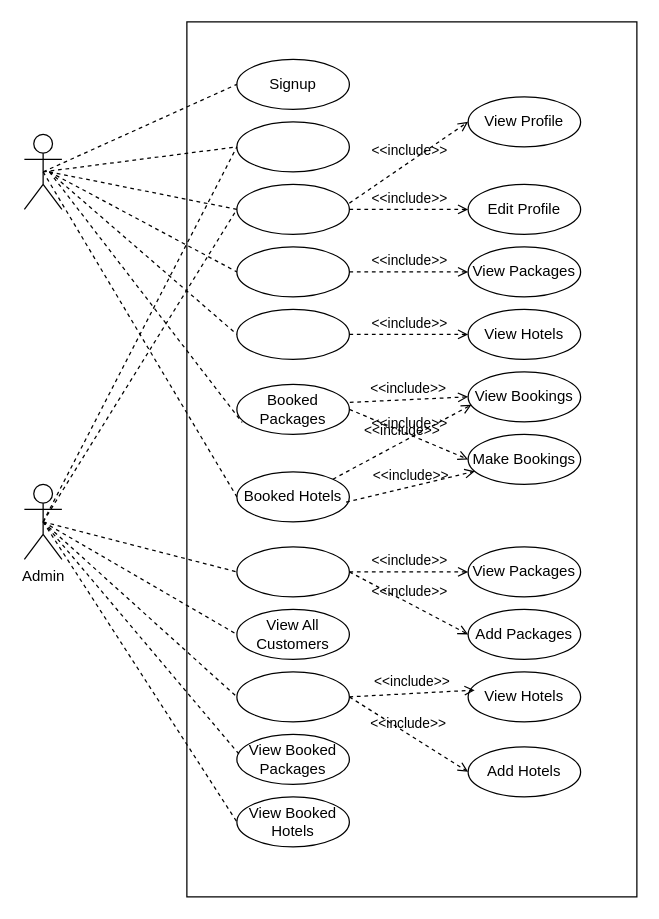
Image size: 659x919. Some labels were removed from this diagram. The shapes that lost their labels are listed below. From the top down, each one's centre as x and y in pixels, then its label:
At point 292,146: "Login / Logout".
At point 42,171: "User".
At point 292,208: "Your Profile".
At point 292,271: "Packages".
At point 292,333: "Hotels".
At point 292,571: "Manage Packages".
At point 292,696: "Manage Hotels".
